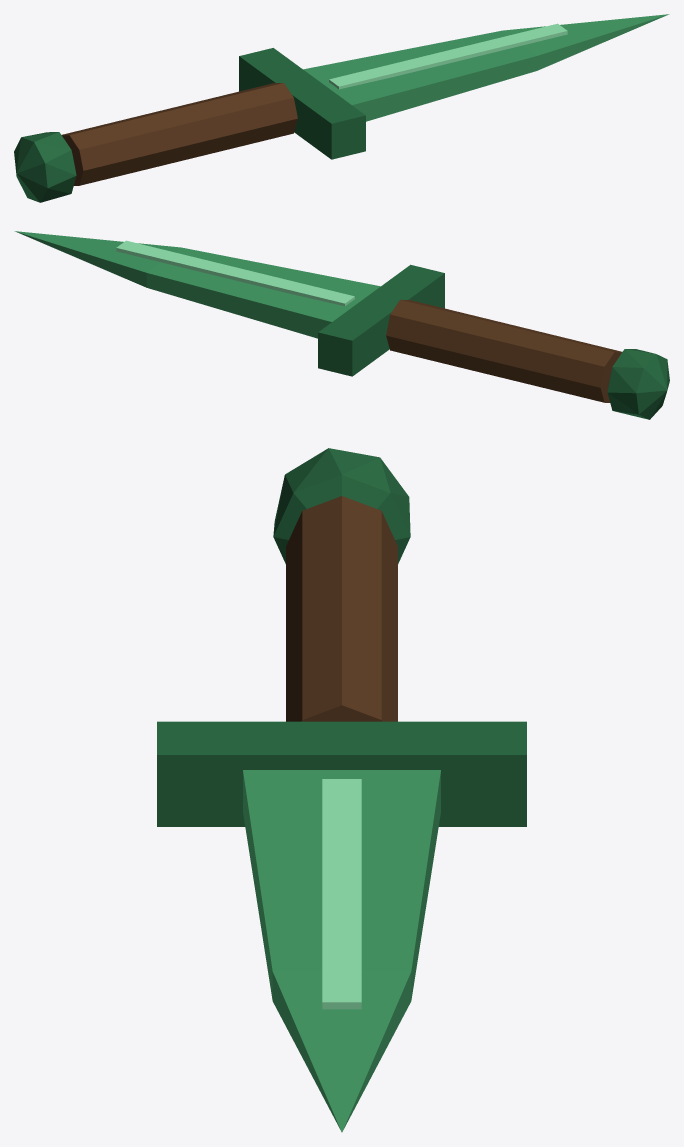
The model's file is drop_adamant_dagger.glb.
3 views of the same model, one above another, from view 1: azimuth 30°, elevation 25°; view 2: azimuth 150°, elevation 25°; view 3: azimuth 270°, elevation 25° (orthographic). The views are drawn at different scales.
Parts seen in each view (by area): view 1: drop_adamant_dagger; view 2: drop_adamant_dagger; view 3: drop_adamant_dagger.
Part boxes in pixels (bbox=[...]): drop_adamant_dagger: bbox=[14, 14, 669, 202]; drop_adamant_dagger: bbox=[14, 231, 669, 419]; drop_adamant_dagger: bbox=[157, 448, 526, 1132].
Bounding box in the file's own units: 0.3656 × 0.0333 × 0.0896.
